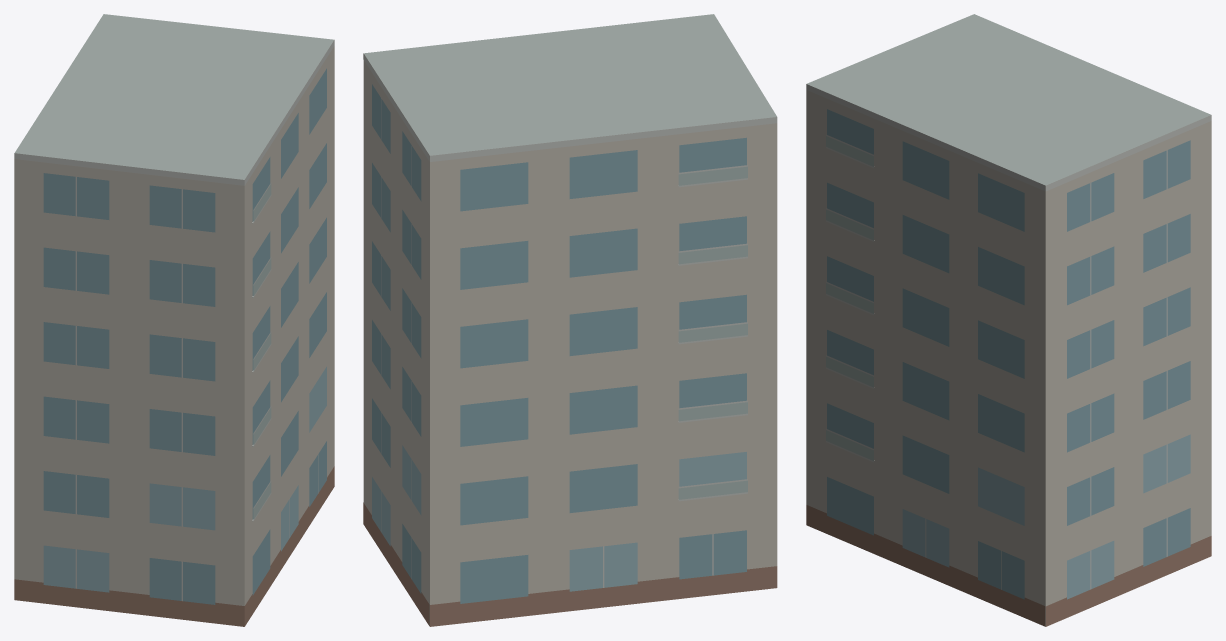
The model's file is survey-upis-32822007.glb.
3 views of the same model, side by side, from view 1: azimuth 30°, elevation 25°; view 2: azimuth 150°, elevation 25°; view 3: azimuth 270°, elevation 25° (orthographic). The views are drawn at different scales.
Visible parts, largest first — view 1: survey-upis-32822007.tmp; view 2: survey-upis-32822007.tmp; view 3: survey-upis-32822007.tmp.
Boxes of the visible parts, x1=… form: survey-upis-32822007.tmp: x1=14, y1=14, x2=334, y2=626; survey-upis-32822007.tmp: x1=363, y1=14, x2=777, y2=626; survey-upis-32822007.tmp: x1=806, y1=14, x2=1211, y2=626.
Bounding box in the file's own units: 15.28 × 18.3 × 15.24.
